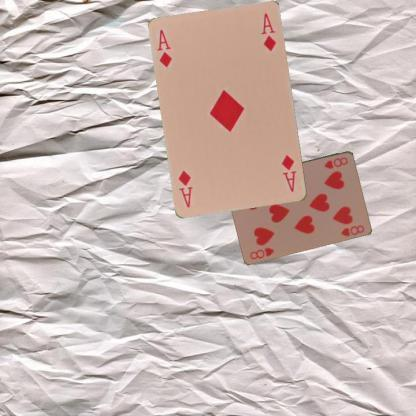8h: (247, 244, 276, 260), (322, 154, 349, 170)
Ad: (279, 152, 299, 194), (155, 27, 174, 71)
